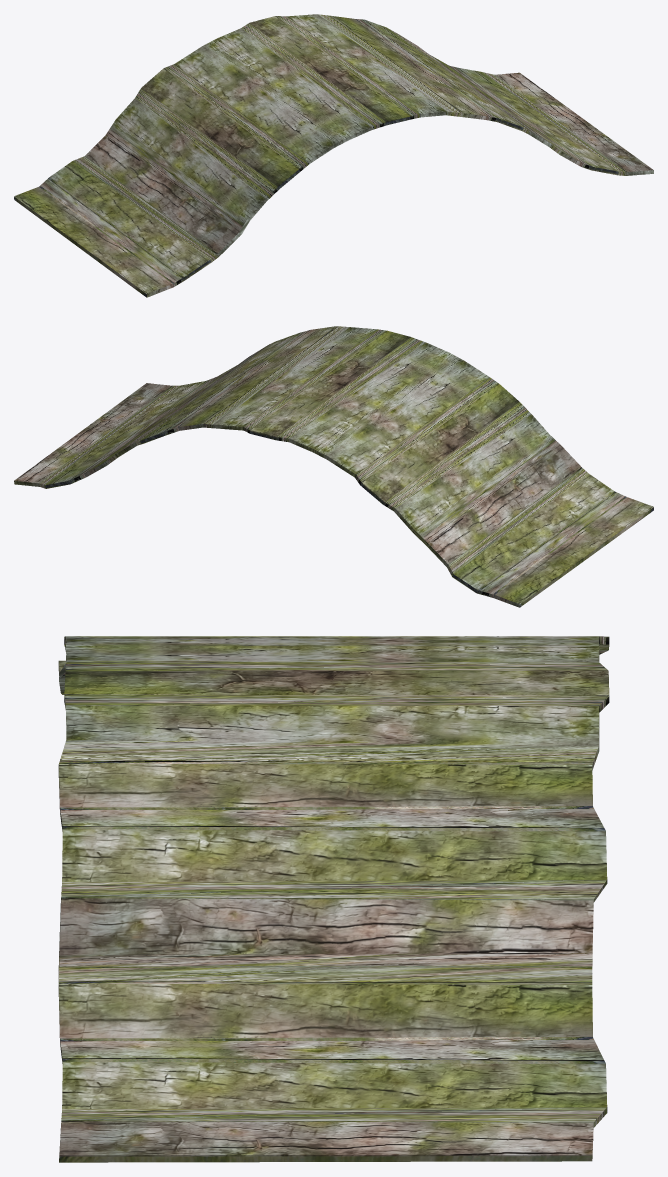
File: RAMP.fbx
3 views of the same model, one above another, from view 1: azimuth 30°, elevation 25°; view 2: azimuth 150°, elevation 25°; view 3: azimuth 270°, elevation 25° (orthographic). The views are drawn at different scales.
Visible parts, largest first — view 1: ramp; view 2: ramp; view 3: ramp.
Part boxes in pixels (x1=…): ramp: x1=14, y1=14, x2=653, y2=297; ramp: x1=14, y1=326, x2=653, y2=607; ramp: x1=58, y1=636, x2=609, y2=1162.
Size of the model in its own units: 438 by 95.83 by 206.
